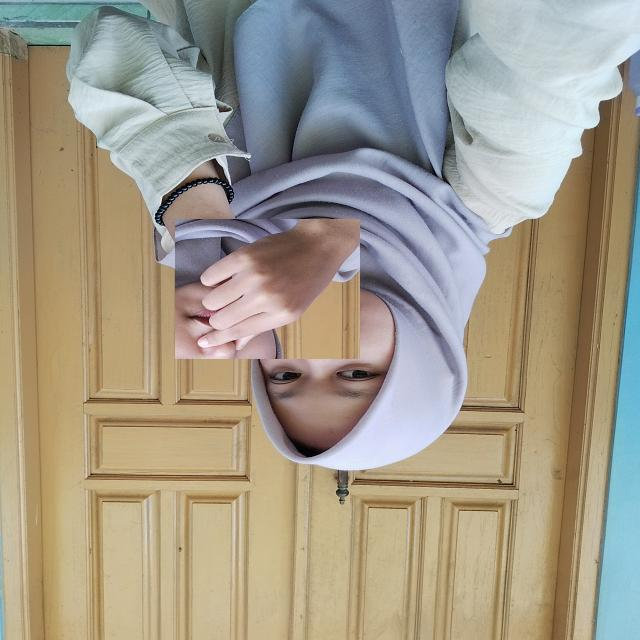bau: (175, 219, 360, 359)
